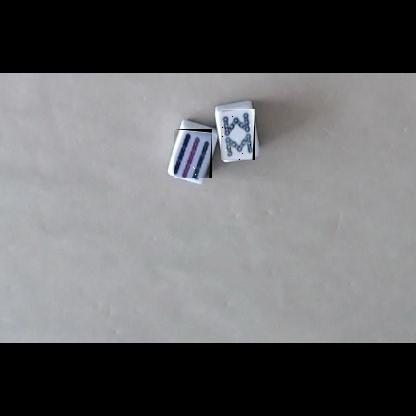8s: (221, 109, 255, 160)
9s: (174, 129, 212, 178)
